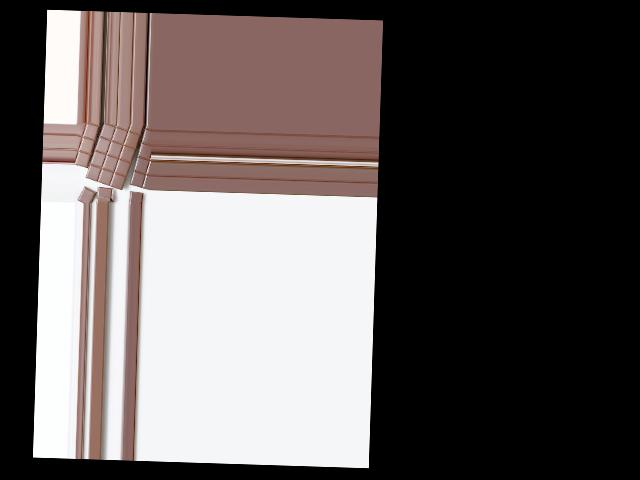chocolate: (84, 122, 141, 189)
